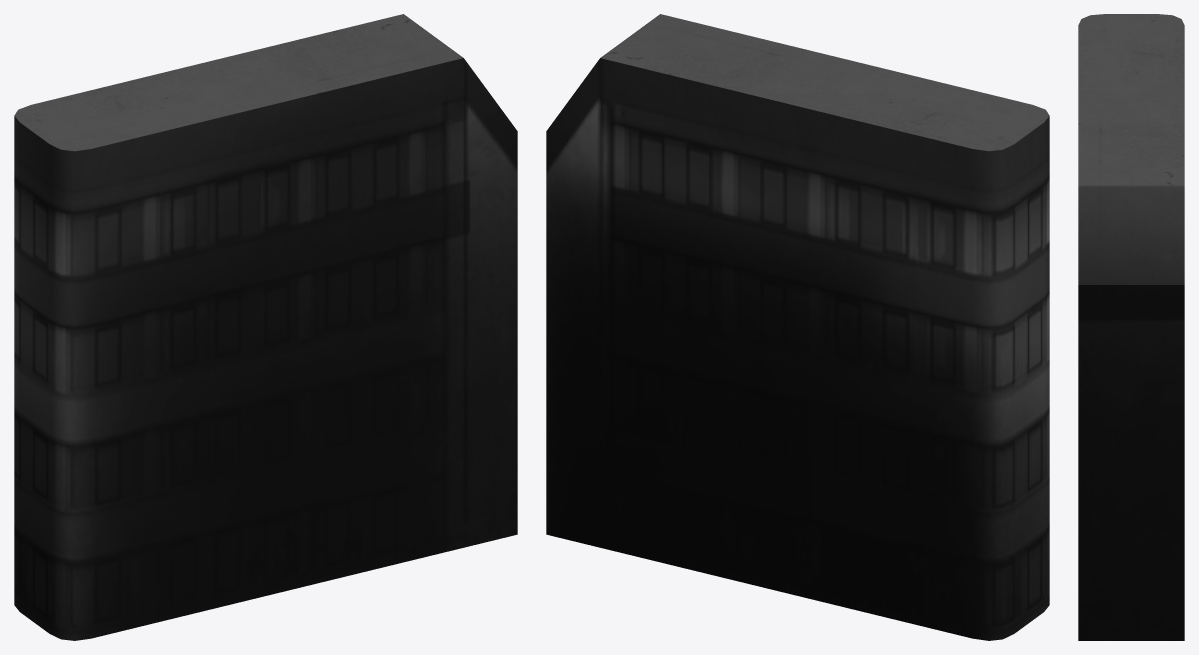
The model's file is SmallBld2.DAE.
3 renders of one model, left to right at view 1: azimuth 30°, elevation 25°; view 2: azimuth 150°, elevation 25°; view 3: azimuth 270°, elevation 25°, orthographic. The views are drawn at different scales.
Visible parts, largest first — view 1: SmallBld2-Pivot; view 2: SmallBld2-Pivot; view 3: SmallBld2-Pivot.
Boxes of the visible parts, x1,y1,x2,y2 form: SmallBld2-Pivot: (14,14,517,640); SmallBld2-Pivot: (546,14,1049,640); SmallBld2-Pivot: (1078,14,1184,640).
Bounding box in the file's own units: 31.88 × 7.34 × 32.95.
